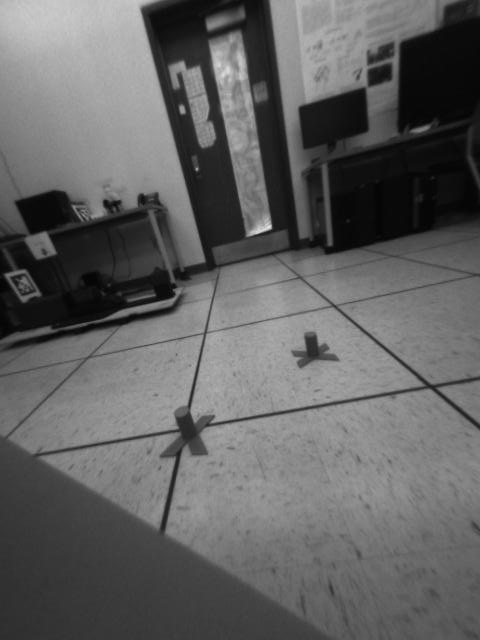X: (161, 404, 211, 457), (291, 330, 341, 369)
